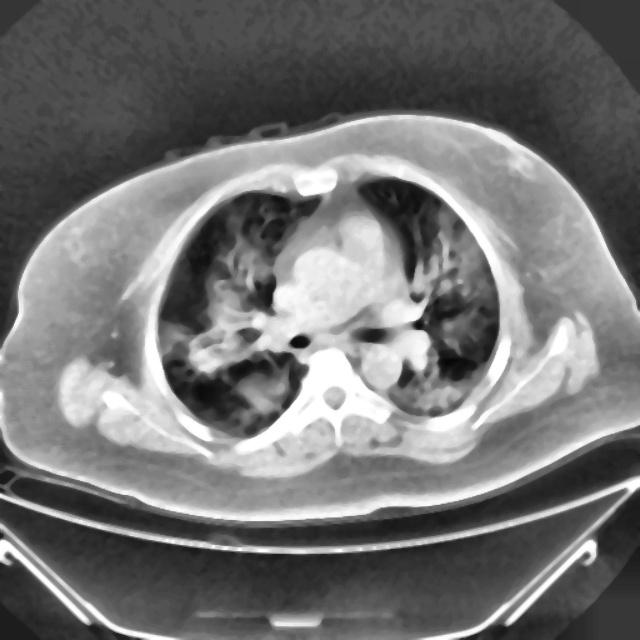covid: (1, 108, 638, 529)
